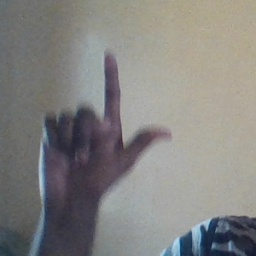L: (33, 50, 174, 200)
